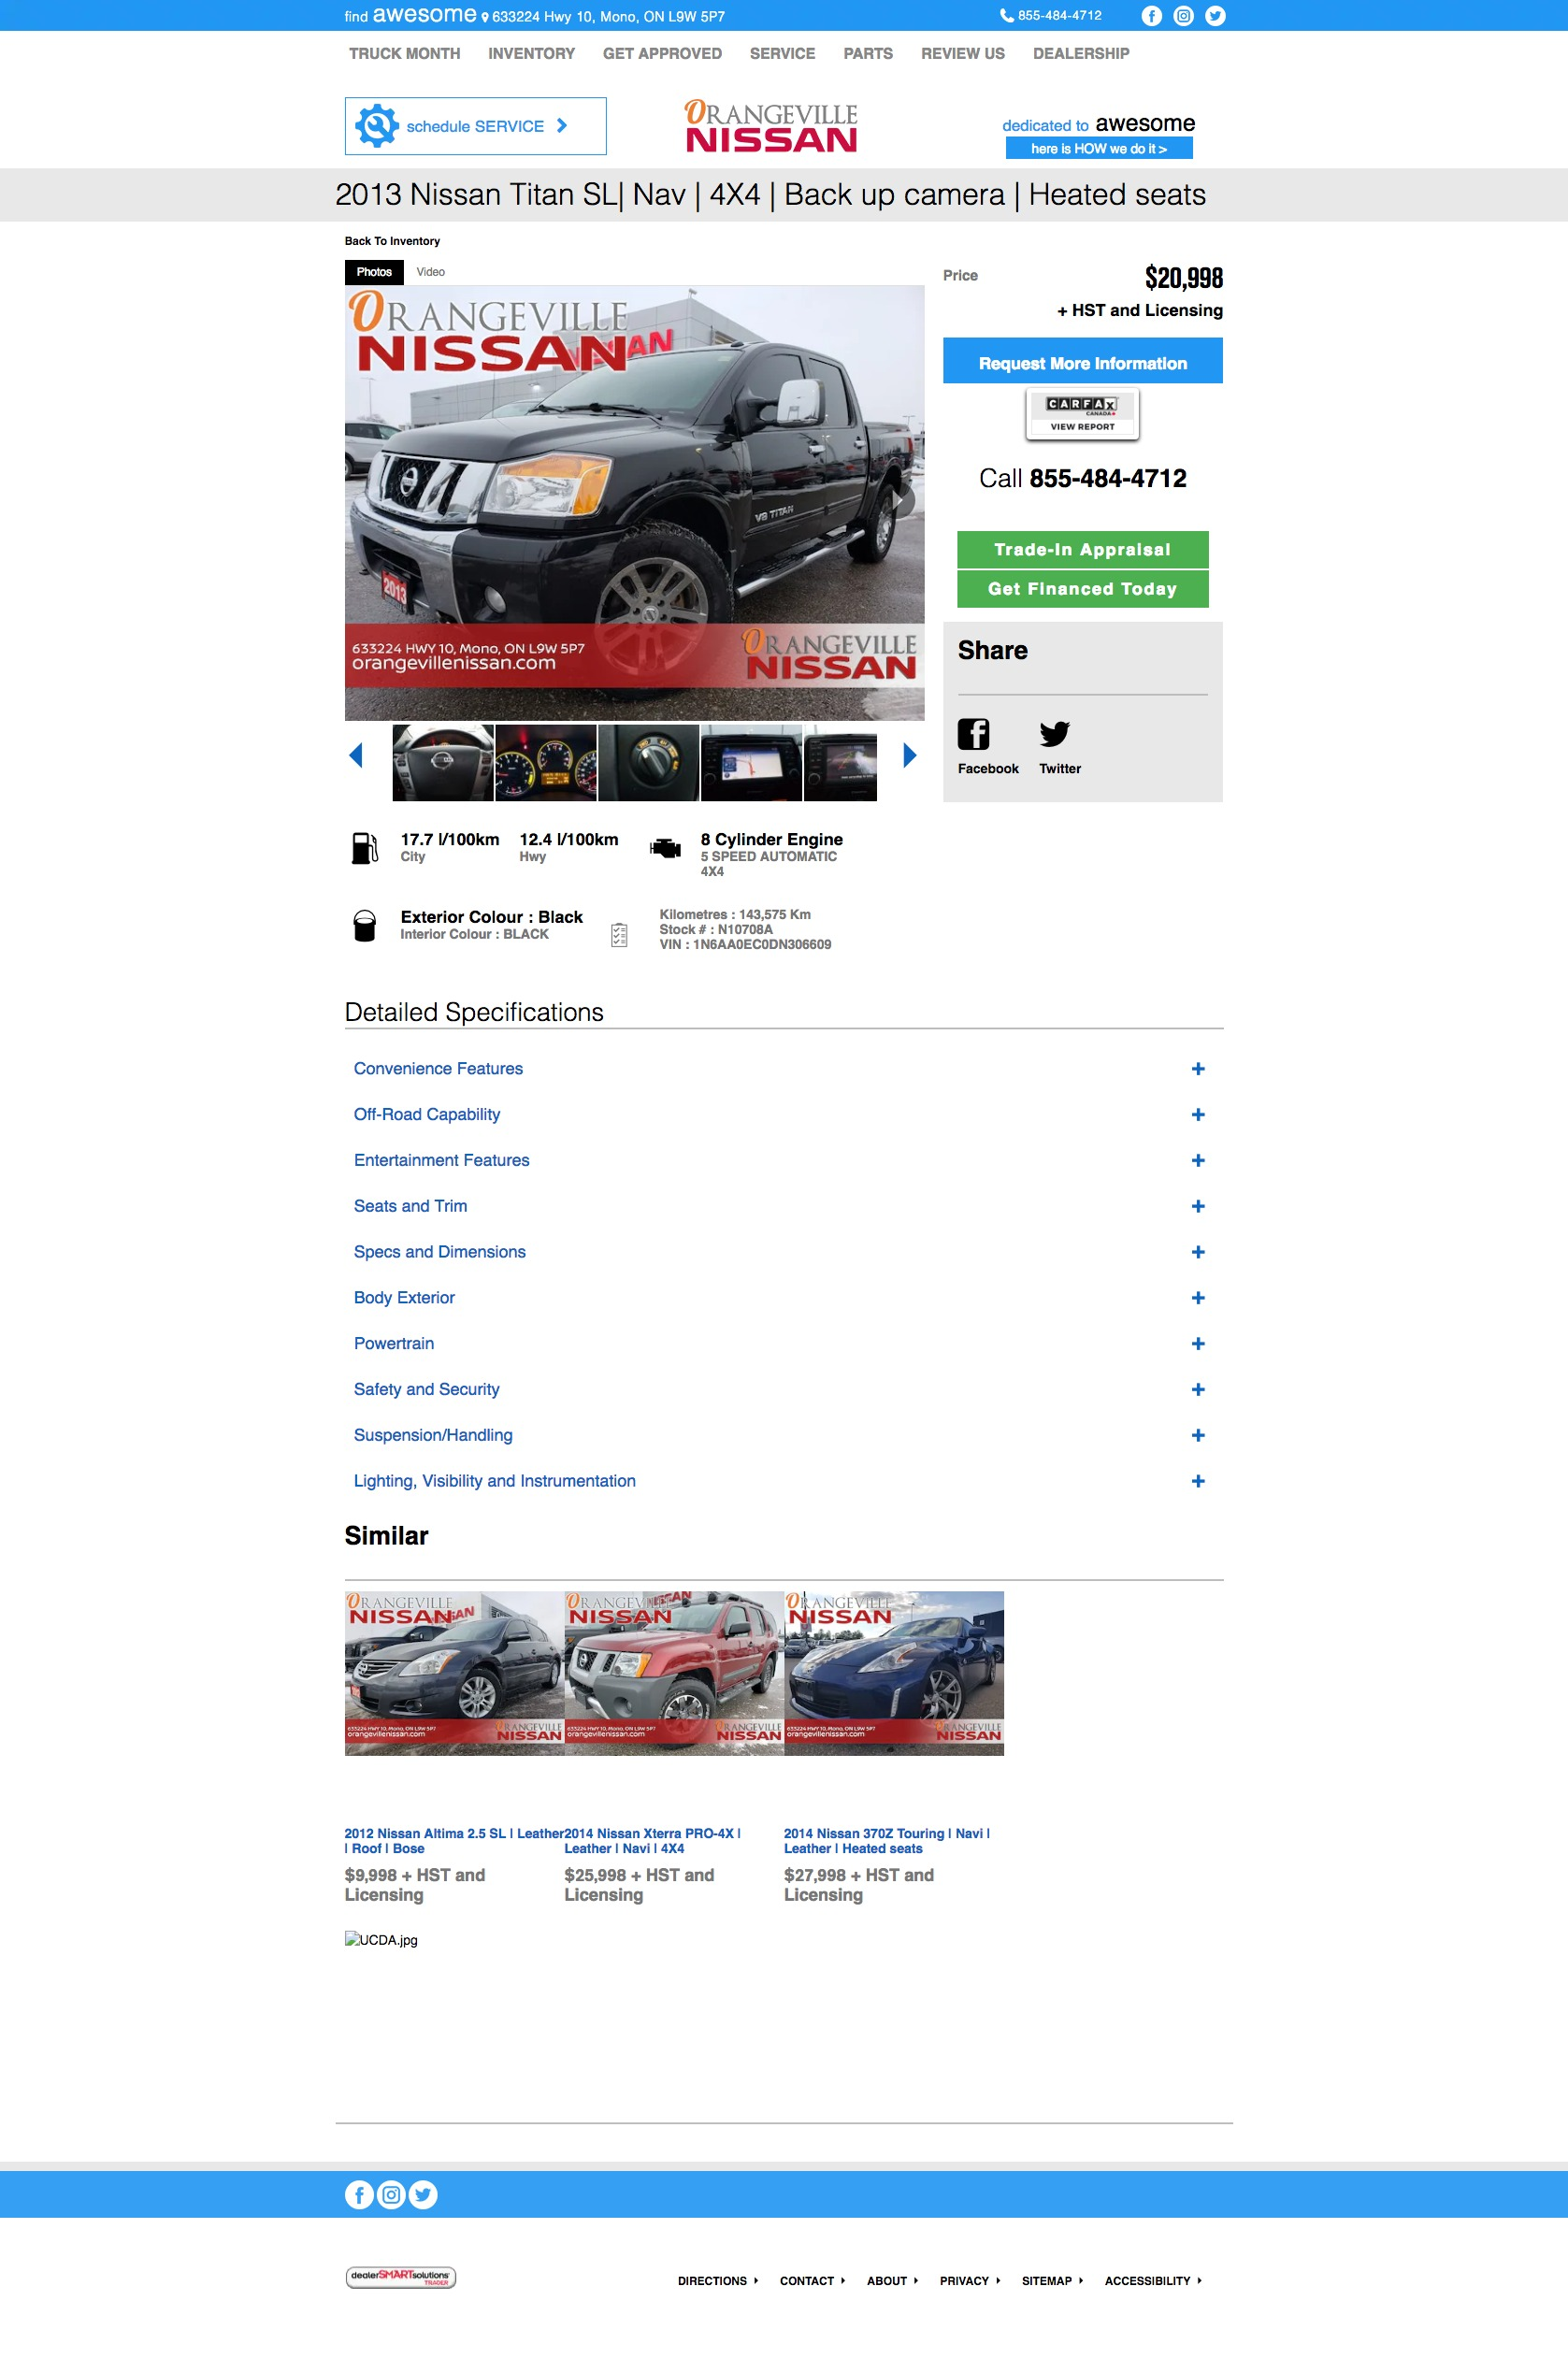car: (903, 742, 919, 770)
